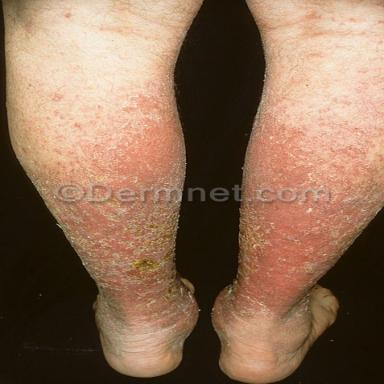Impetigo: (228, 185, 384, 317), (46, 200, 195, 330)
